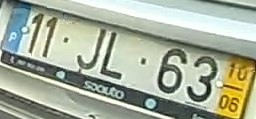1: (40, 14, 60, 60), (28, 11, 45, 55)
3: (185, 54, 219, 104)
6: (154, 46, 189, 95)
J: (74, 26, 107, 70)
L: (97, 29, 123, 81)
